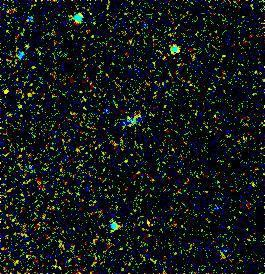star: (0, 78, 22, 108)
